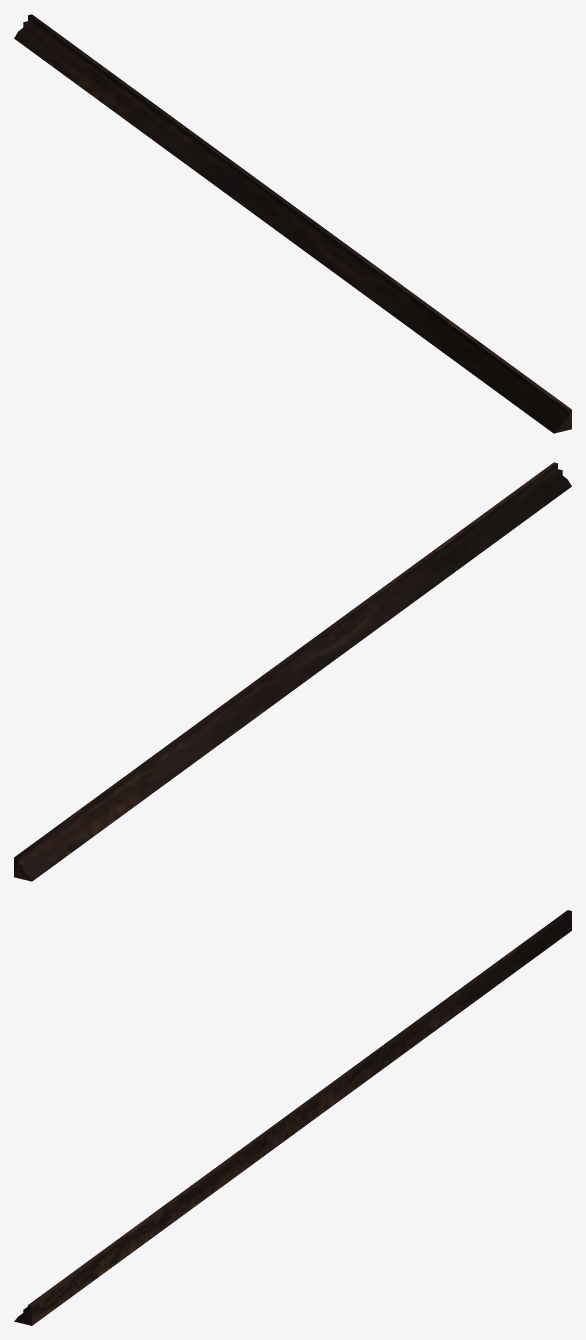
Rendered from plintus.fbx.
3 views of the same model, one above another, from view 1: azimuth 30°, elevation 25°; view 2: azimuth 150°, elevation 25°; view 3: azimuth 330°, elevation 25° (orthographic).
Parts seen in each view (by area): view 1: pCube4; view 2: pCube4; view 3: pCube4.
Boxes of the visible parts, x1,y1,x2,y2 form: pCube4: (14, 14, 571, 433); pCube4: (14, 462, 571, 881); pCube4: (14, 910, 571, 1325).
Size of the model in its own units: 0.7337 by 0.7676 by 37.97.
Materials: 1 (1 with a texture image).
